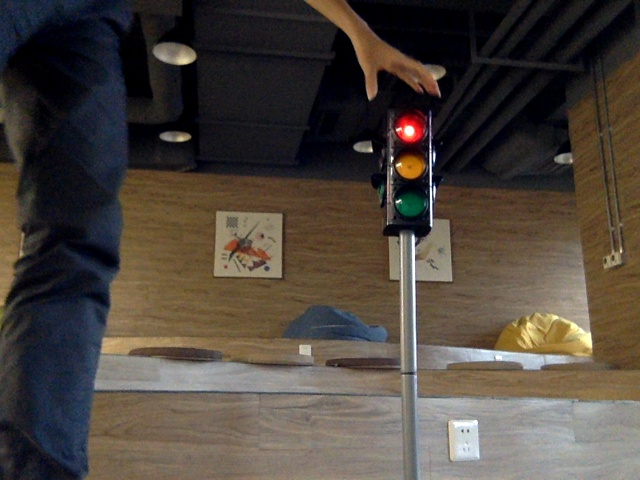red: (387, 115, 430, 225)
